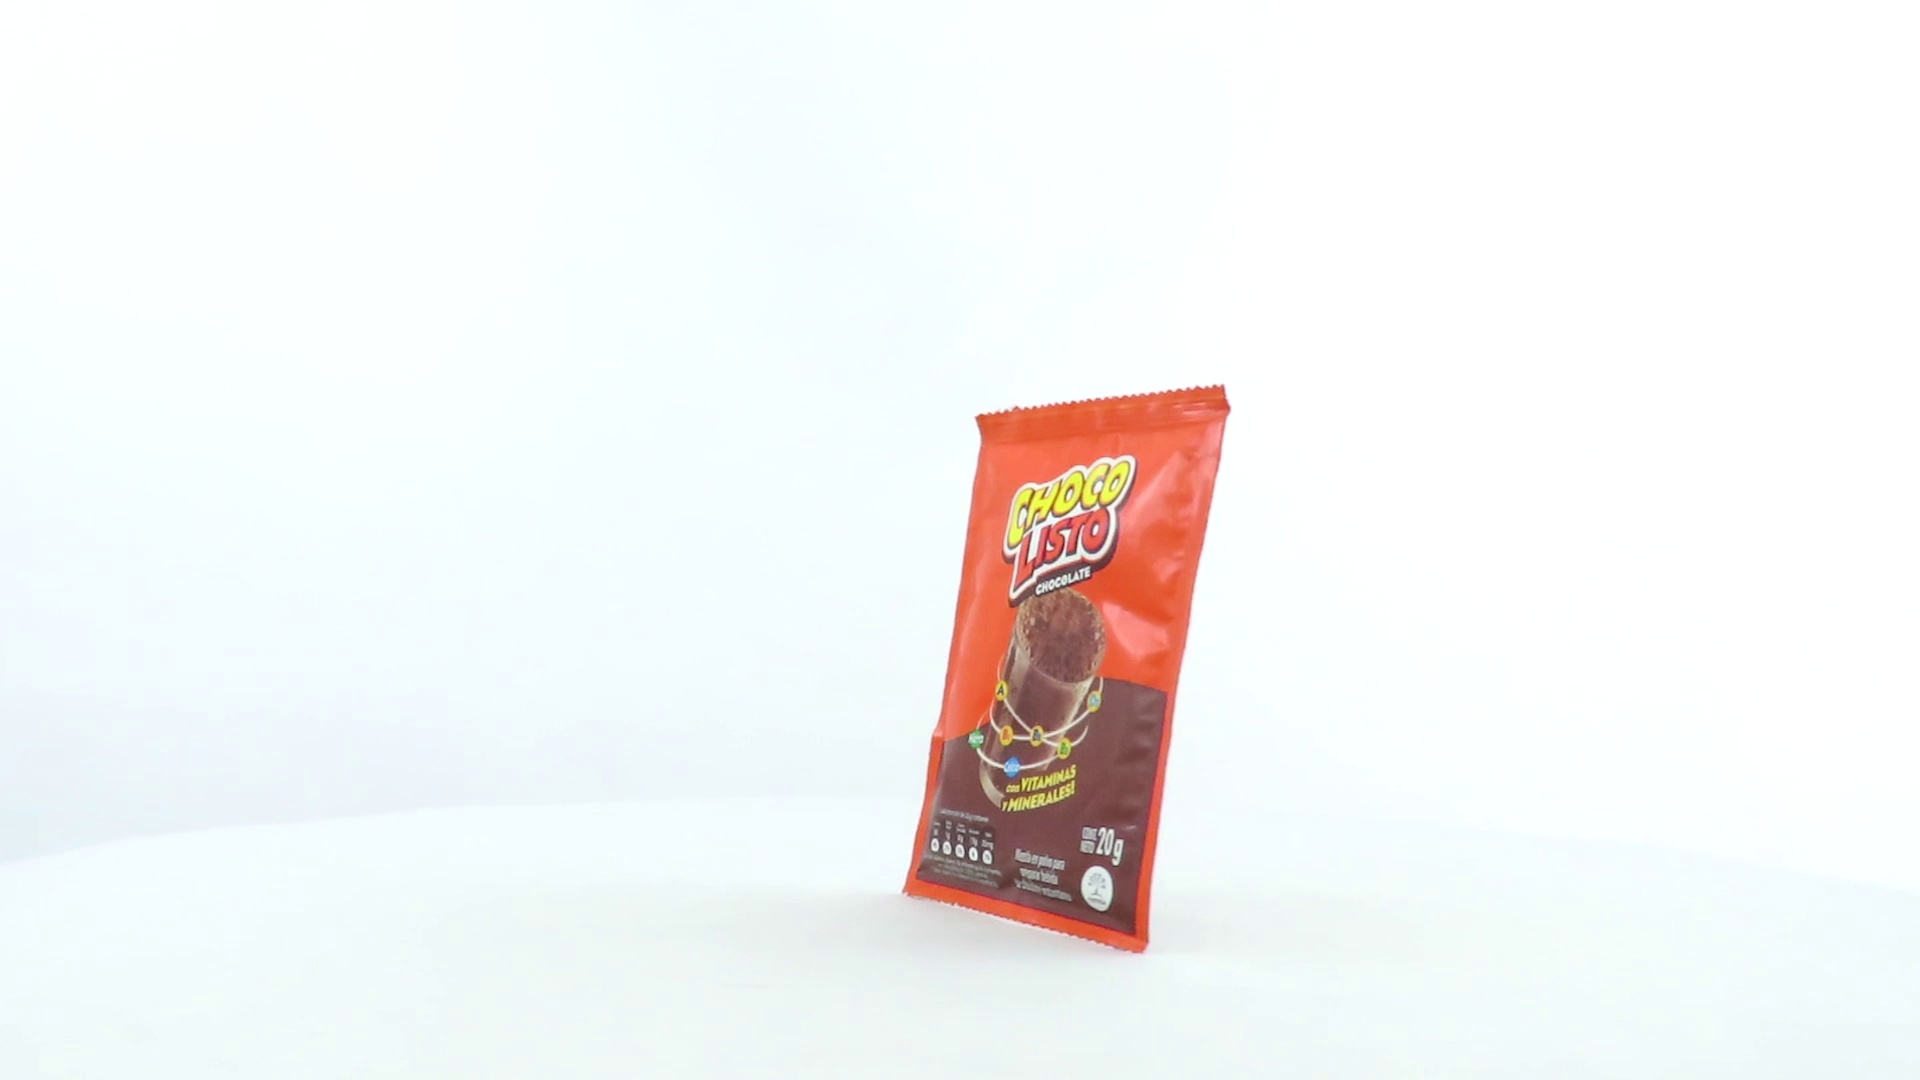COL0170103SOB02000: (897, 378, 1237, 960)
